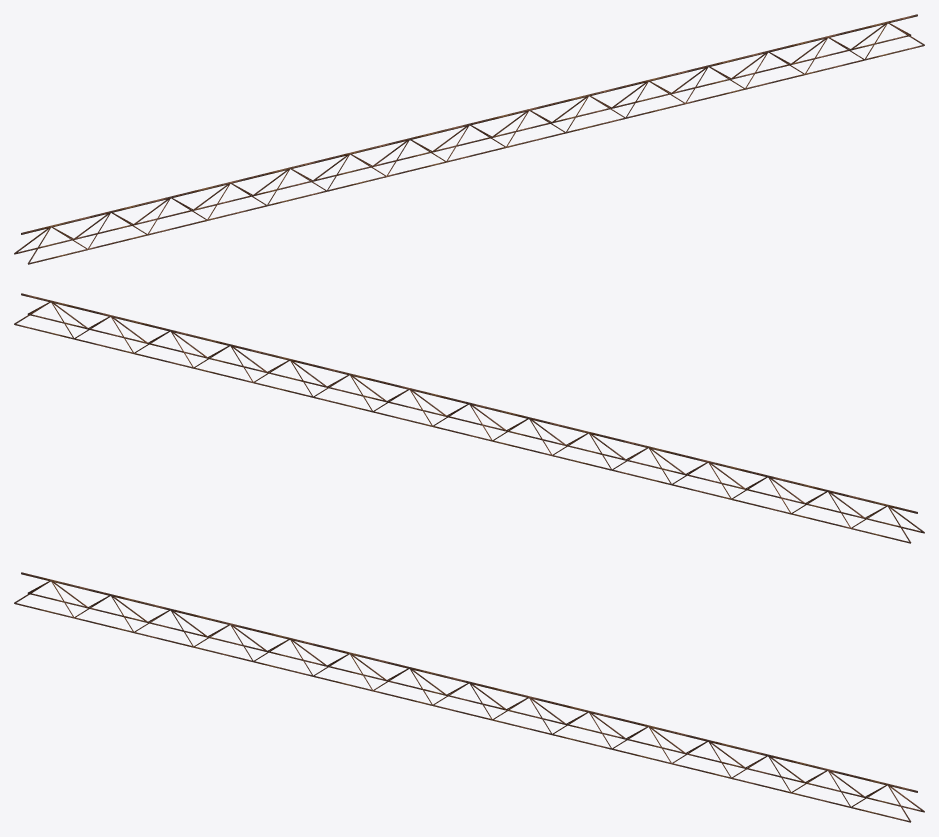
File: EST-LAJ-002.glb
The picture shows the model from 3 angles, top to bottom: view 1: azimuth 30°, elevation 25°; view 2: azimuth 150°, elevation 25°; view 3: azimuth 330°, elevation 25°; orthographic projection.
Visible parts, largest first — view 1: EST-LAJ-002_banzo_sup, EST-LAJ-002_sinus, EST-LAJ-002_banzo_inf, EST-LAJ-002_banzo_inf.001, EST-LAJ-002_sinus.001; view 2: EST-LAJ-002_banzo_sup, EST-LAJ-002_sinus.001, EST-LAJ-002_banzo_inf.001, EST-LAJ-002_banzo_inf, EST-LAJ-002_sinus; view 3: EST-LAJ-002_banzo_sup, EST-LAJ-002_sinus, EST-LAJ-002_banzo_inf, EST-LAJ-002_banzo_inf.001, EST-LAJ-002_sinus.001.
Boxes of the visible parts, x1,y1,x2,y2 form: EST-LAJ-002_banzo_sup: (21, 14, 917, 234); EST-LAJ-002_sinus: (27, 23, 924, 263); EST-LAJ-002_banzo_inf: (28, 45, 924, 264); EST-LAJ-002_banzo_inf.001: (14, 35, 908, 254); EST-LAJ-002_sinus.001: (14, 24, 911, 253); EST-LAJ-002_banzo_sup: (21, 293, 917, 513); EST-LAJ-002_sinus.001: (14, 302, 911, 542); EST-LAJ-002_banzo_inf.001: (14, 324, 910, 543); EST-LAJ-002_banzo_inf: (30, 314, 924, 533); EST-LAJ-002_sinus: (27, 303, 924, 532); EST-LAJ-002_banzo_sup: (21, 572, 917, 792); EST-LAJ-002_sinus: (14, 581, 911, 821); EST-LAJ-002_banzo_inf: (14, 603, 910, 822); EST-LAJ-002_banzo_inf.001: (30, 593, 924, 812); EST-LAJ-002_sinus.001: (27, 582, 924, 811).
Bounding box in the file's own units: 3 × 0.0845 × 0.0842.
1 material, 1 textured.
